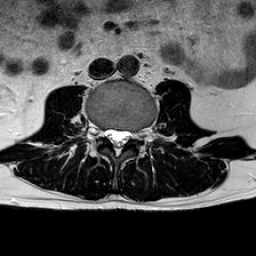CCS_normal: (113, 120, 122, 164)
LFS_normal: (131, 121, 140, 147)
LLS_normal: (122, 121, 131, 150)
RFS_normal: (96, 116, 104, 146)
RLS_normal: (104, 121, 113, 148)
